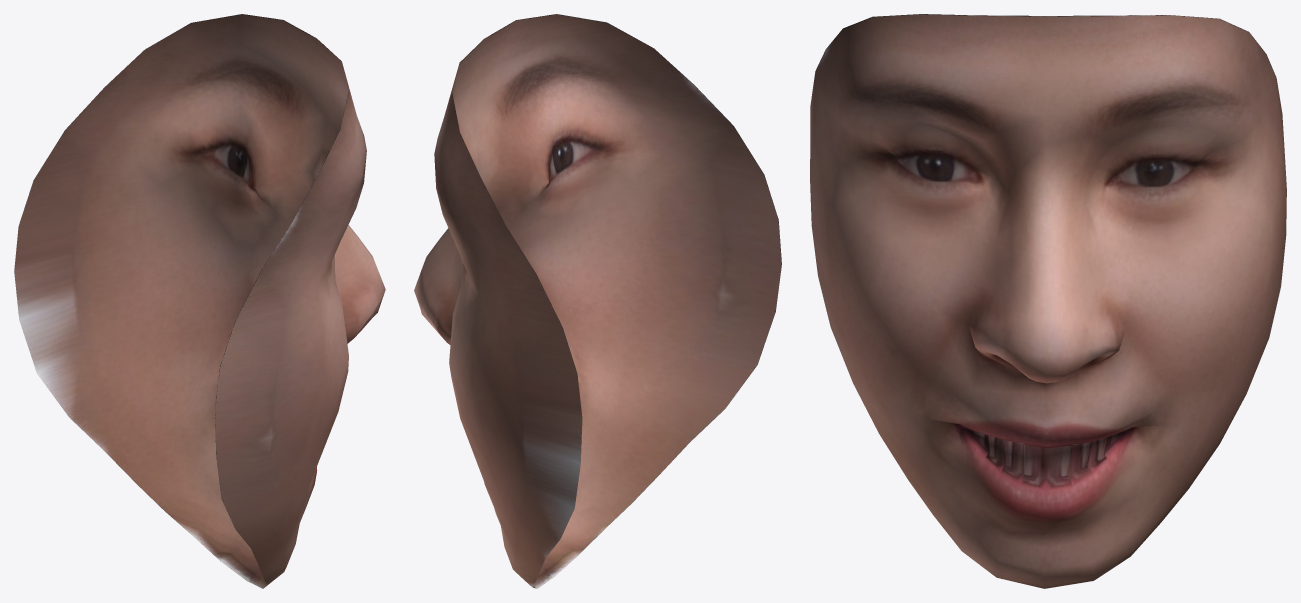
File: bilibili_food.glb
3 views of the same model, side by side, from view 1: azimuth 30°, elevation 25°; view 2: azimuth 150°, elevation 25°; view 3: azimuth 270°, elevation 25° (orthographic). The views are drawn at different scales.
Parts seen in each view (by area): view 1: bilibili_food; view 2: bilibili_food; view 3: bilibili_food.
Part boxes in pixels (x1,y1,x2,y2): bilibili_food: (14, 14, 385, 588); bilibili_food: (414, 14, 781, 588); bilibili_food: (810, 14, 1286, 588).
Bounding box in the file's own units: 0.4459 × 0.8497 × 0.5989.
Materials: 1 (1 with a texture image).
